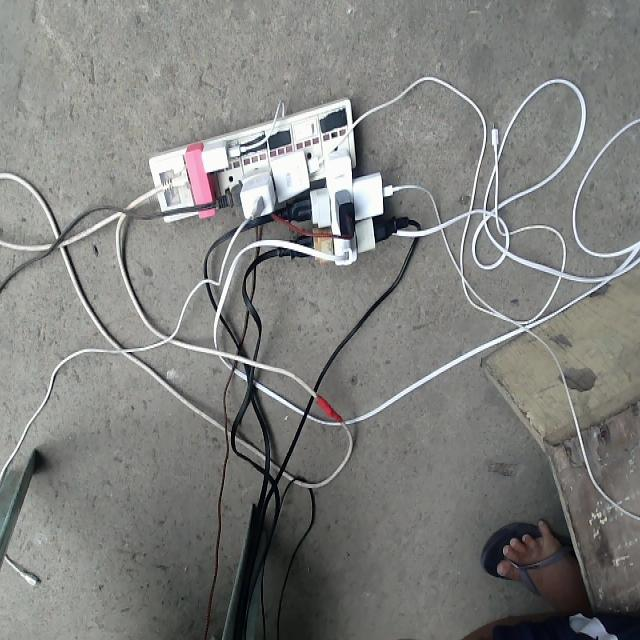-: (149, 97, 408, 264)
